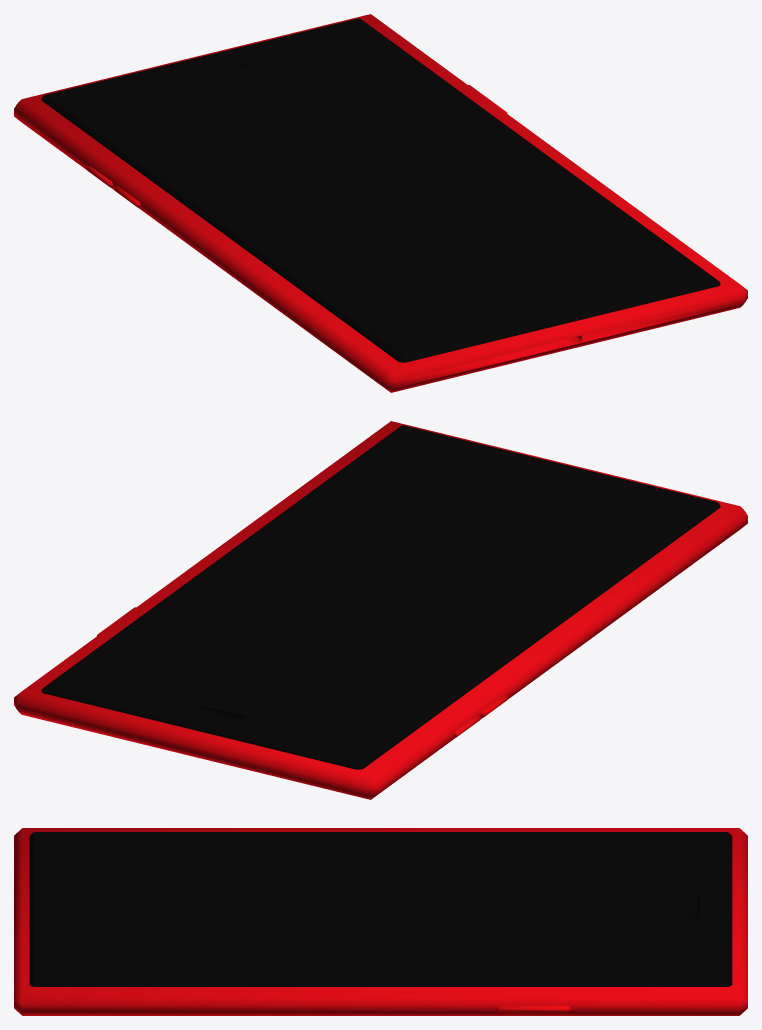
File: asset1.glb
3 renders of one model, top to bottom at view 1: azimuth 30°, elevation 25°; view 2: azimuth 150°, elevation 25°; view 3: azimuth 270°, elevation 25°, orthographic. The views are drawn at different scales.
Visible parts, largest first — view 1: Cube; view 2: Cube; view 3: Cube.
Boxes of the visible parts, x1,y1,x2,y2 form: Cube: [14, 14, 747, 392]; Cube: [14, 421, 747, 799]; Cube: [14, 828, 747, 1015].
Size of the model in its own units: 5.17 by 0.4332 by 9.09.
